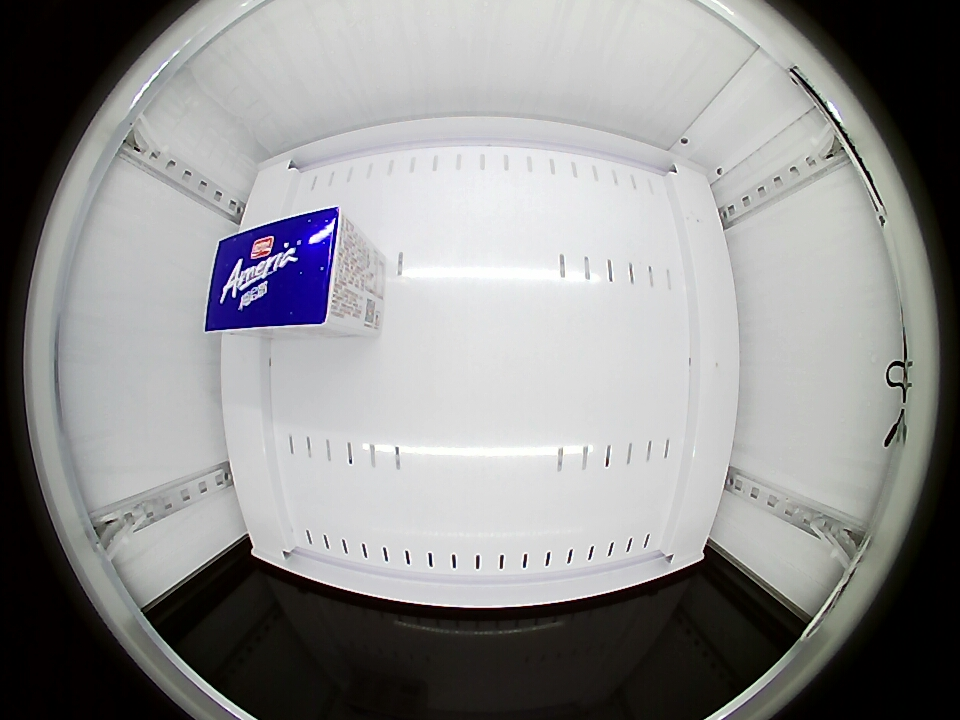meiniye: (203, 206, 353, 334)
